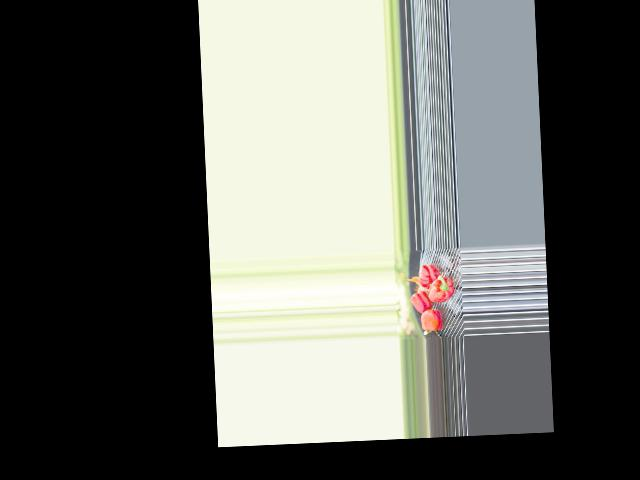bell_pepper: (417, 263, 439, 289)
